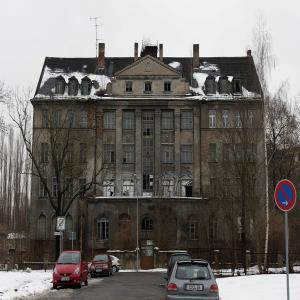Vehicle-registration-plate: (186, 285, 203, 291), (61, 278, 72, 284), (97, 270, 103, 273)
